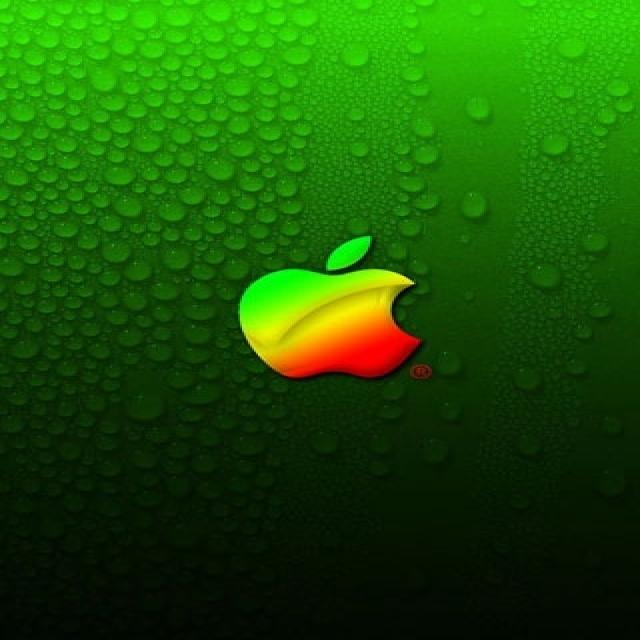apple: (219, 225, 431, 382)
